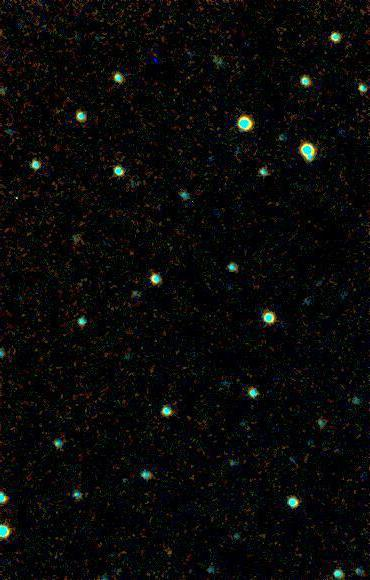star: (155, 535, 185, 565)
